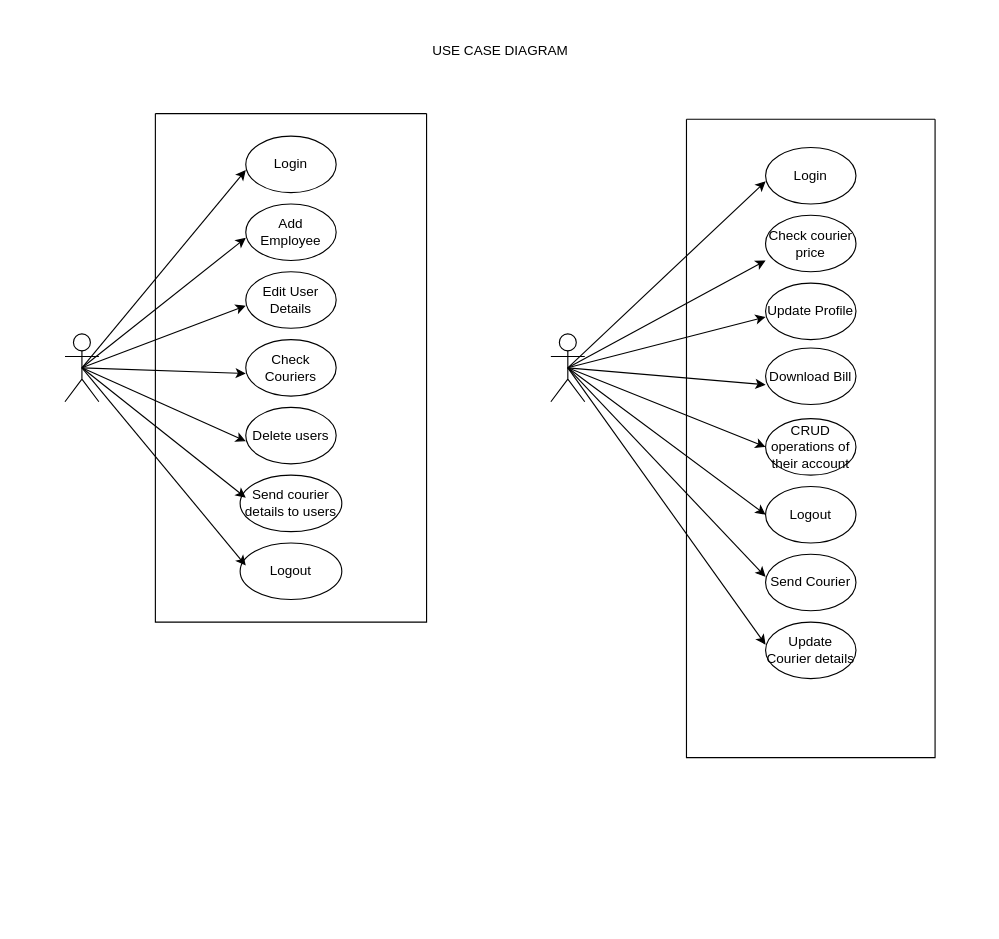
The diagram is 999 pixels wide and 939 high, and some of its shapes have lost their labels. The centre of each missing label's shape, as x and y in pixels:
Admin: (x=81, y=367)
User: (x=567, y=367)
